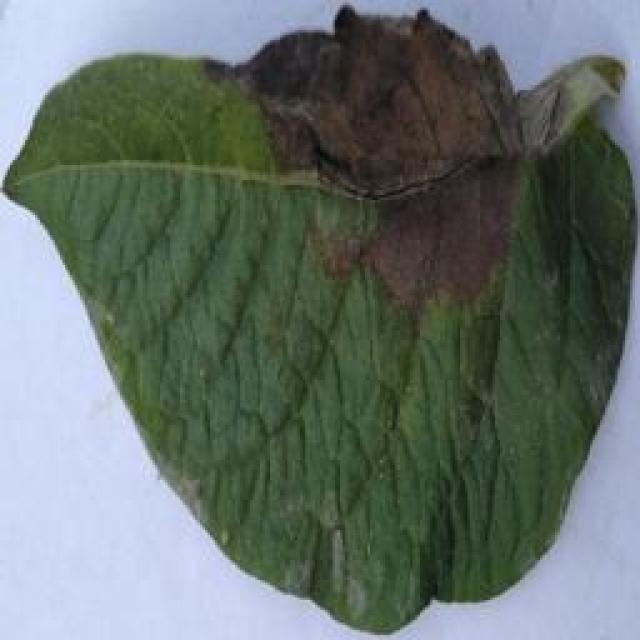Potato_Late_Blight: (4, 6, 631, 633)
